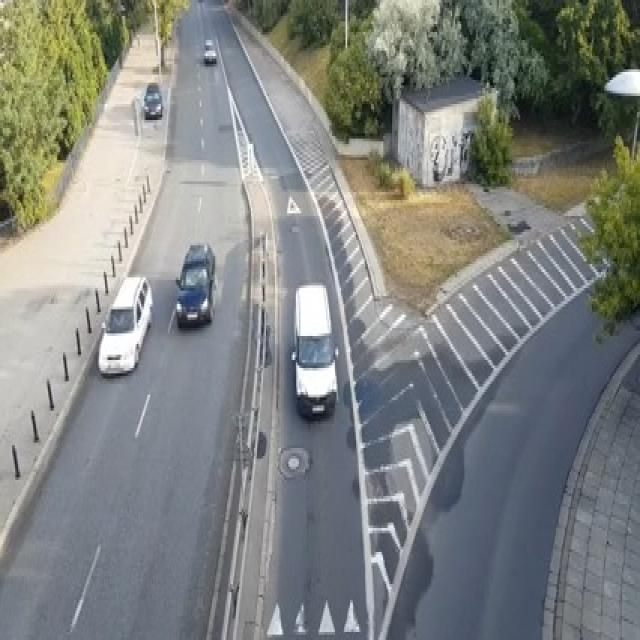car: (290, 282, 338, 418), (98, 275, 152, 376), (174, 240, 217, 325), (143, 83, 162, 117), (203, 38, 216, 62)
